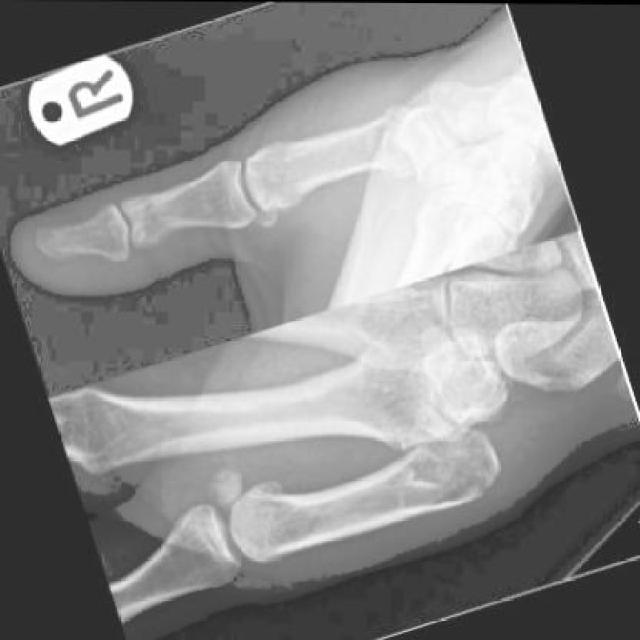Fracture: (388, 400, 516, 521), (350, 86, 456, 185)
